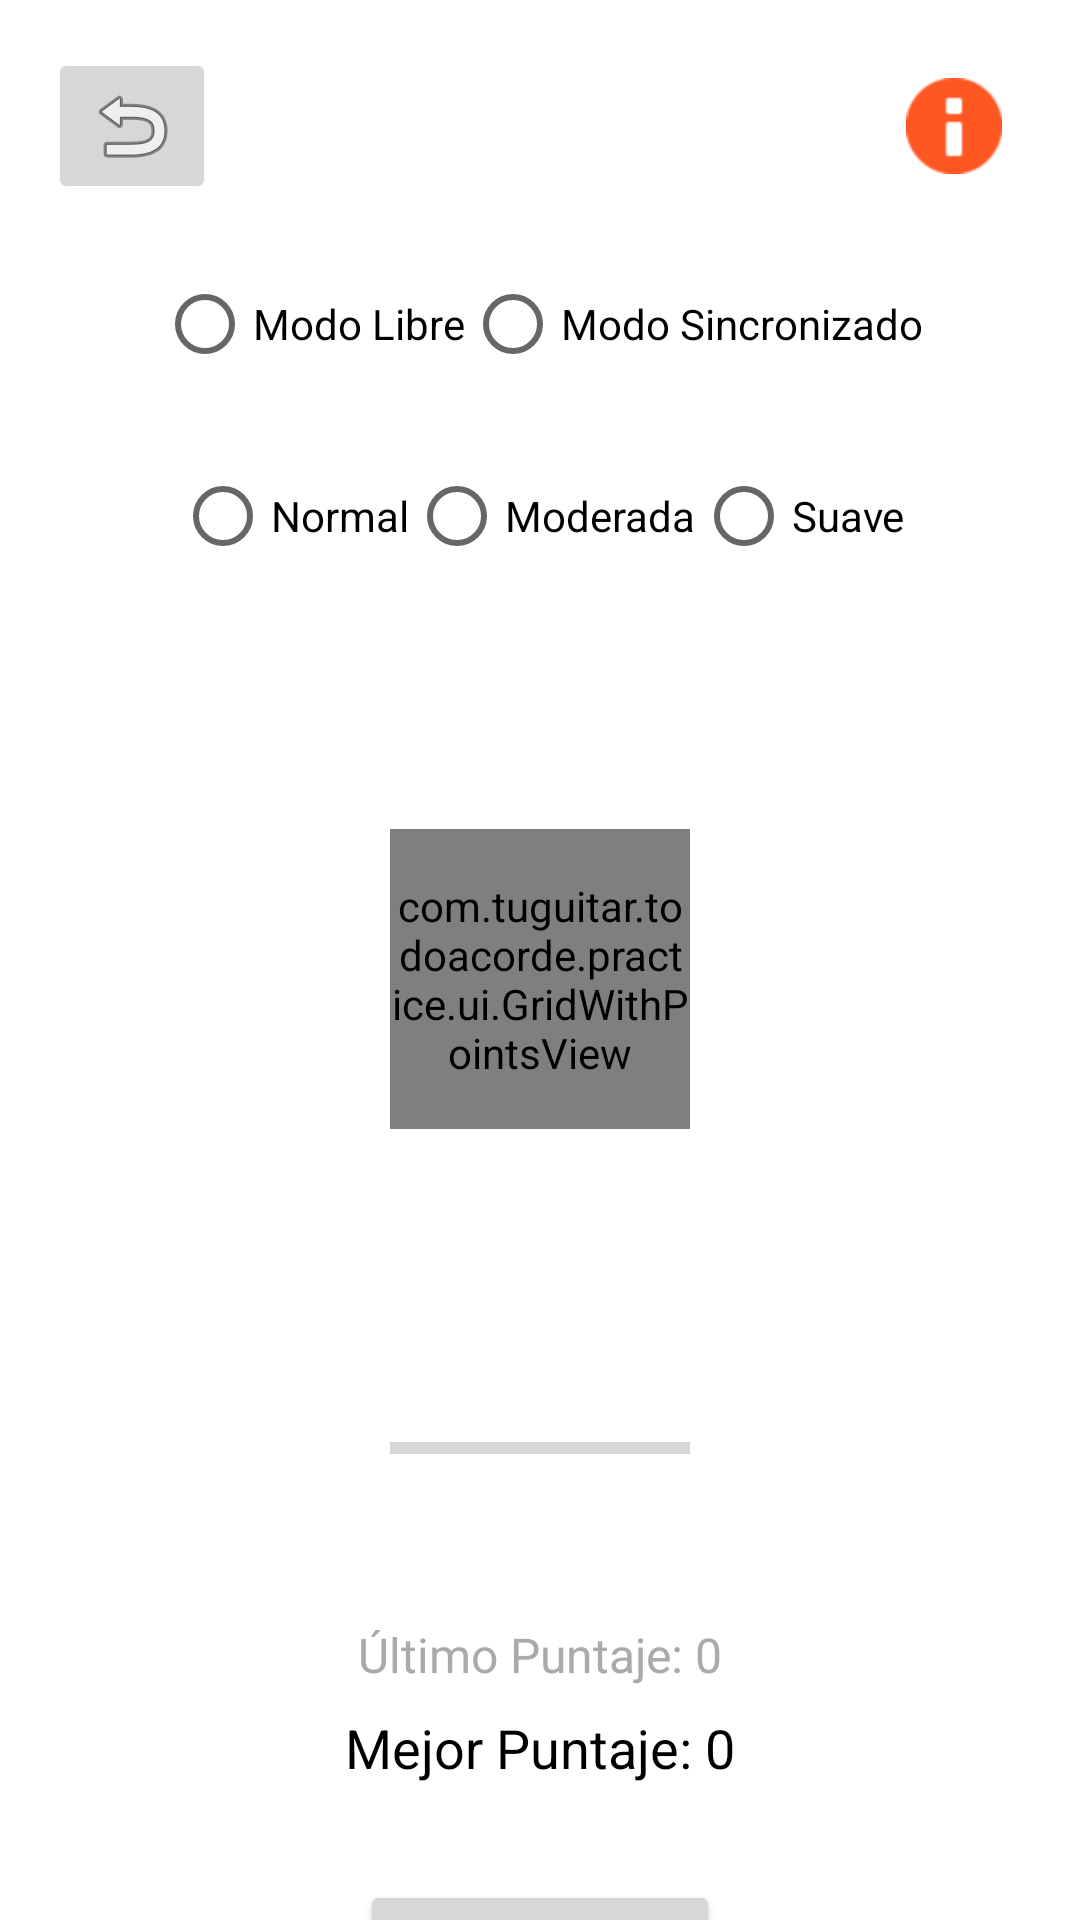

Icon click points for this 1080x1920 phone screenshot, format point (x, y):
Back: point (132, 126)
information: point (954, 126)
